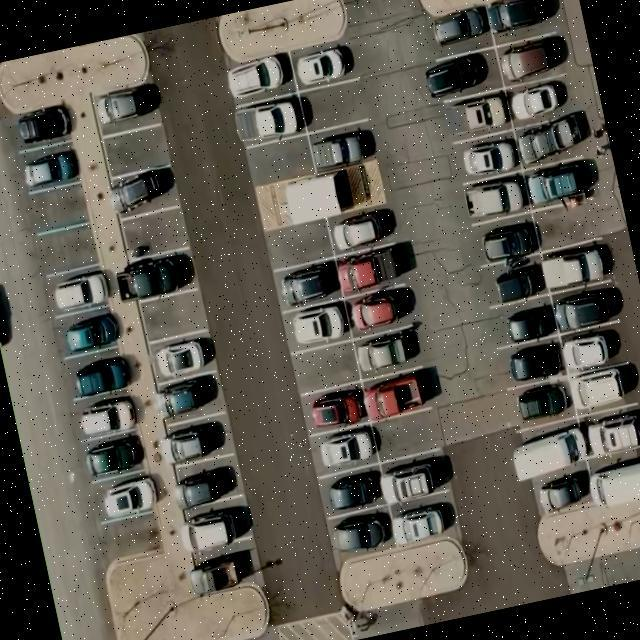space-empty: (296, 76, 372, 134), (114, 204, 188, 263), (530, 194, 604, 252), (370, 406, 444, 462), (288, 338, 361, 394), (262, 216, 334, 272), (136, 288, 208, 344), (98, 122, 170, 177), (32, 221, 104, 276), (22, 181, 92, 236), (246, 134, 316, 188), (96, 514, 164, 566)
space-occupied: (506, 420, 590, 484), (116, 244, 198, 306), (512, 109, 590, 173), (176, 498, 254, 560), (420, 46, 502, 104), (521, 155, 597, 217), (436, 87, 514, 147), (343, 280, 420, 340), (361, 364, 436, 424), (235, 89, 308, 150), (349, 324, 428, 380), (325, 202, 401, 260), (88, 76, 164, 134), (43, 262, 116, 322), (567, 360, 640, 420), (298, 380, 372, 439), (62, 347, 138, 404), (224, 50, 300, 107), (161, 408, 233, 468), (287, 38, 361, 96), (492, 32, 568, 88), (503, 376, 577, 433), (378, 448, 453, 504), (72, 387, 144, 445), (170, 453, 243, 510), (548, 278, 622, 334), (486, 292, 560, 348), (89, 469, 161, 526), (78, 428, 150, 485), (388, 489, 460, 546), (106, 163, 178, 220), (272, 255, 342, 313), (460, 167, 530, 225), (144, 328, 214, 386), (280, 297, 352, 353), (578, 401, 640, 466), (335, 243, 408, 298), (451, 130, 522, 186), (53, 306, 124, 362), (493, 335, 566, 389), (308, 420, 378, 476), (325, 504, 394, 560), (307, 120, 376, 176), (558, 320, 628, 375), (424, 2, 492, 58), (538, 239, 614, 289), (586, 441, 640, 511), (503, 77, 580, 126), (154, 368, 223, 422), (474, 212, 540, 268), (16, 140, 82, 194), (317, 464, 383, 516), (194, 549, 262, 598), (483, 255, 548, 306), (8, 102, 72, 151), (528, 466, 593, 514), (484, 0, 554, 37)
